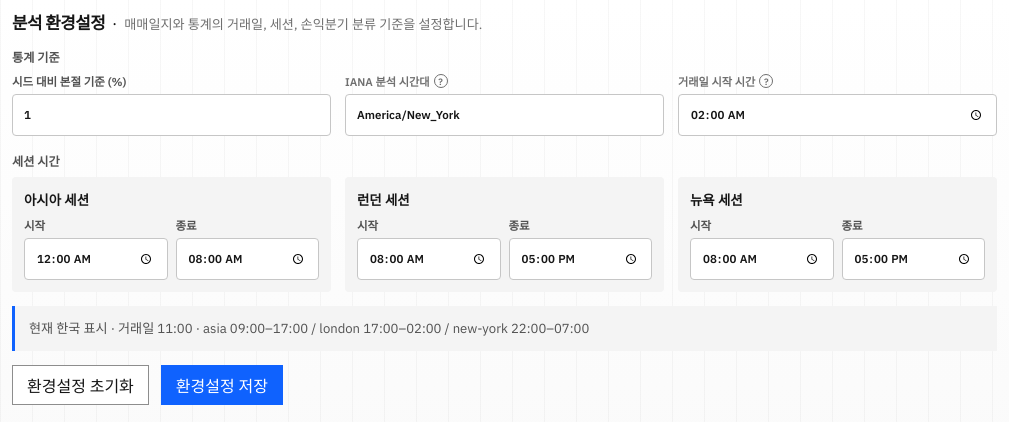
Scenario: explains the analysis timezone and restores the documented defaults
Click the button "환경설정 초기화".
click(80, 385)  # box [12,365,149,405]
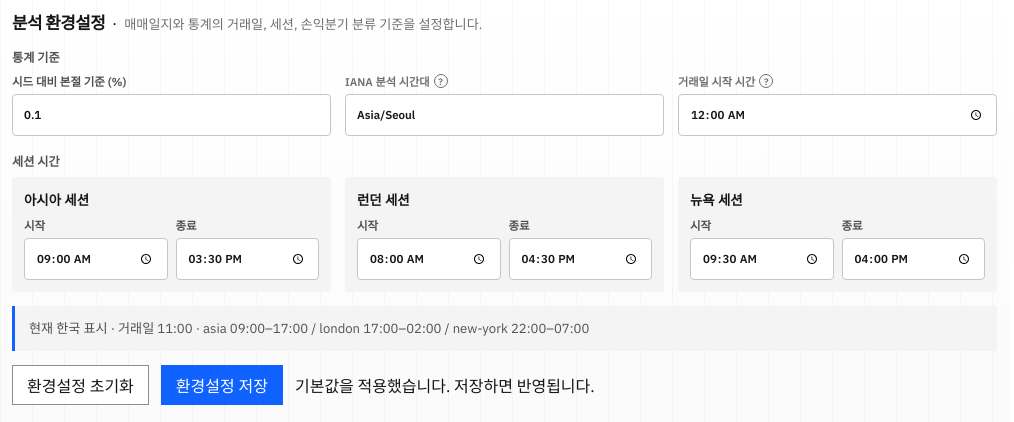
Now the number field labelled "시드 대비 본절 기준" holds "0.1", box [12,94,331,136]
Now the field labelled "분석 시간대" holds "Asia/Seoul", box [345,94,664,136]
Now the time field labelled "거래일 시작 시간" holds "00:00", box [678,94,997,136]
